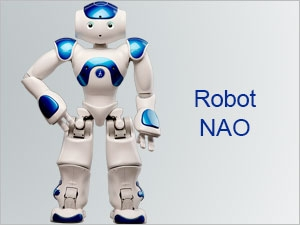nao: (12, 1, 170, 225)
